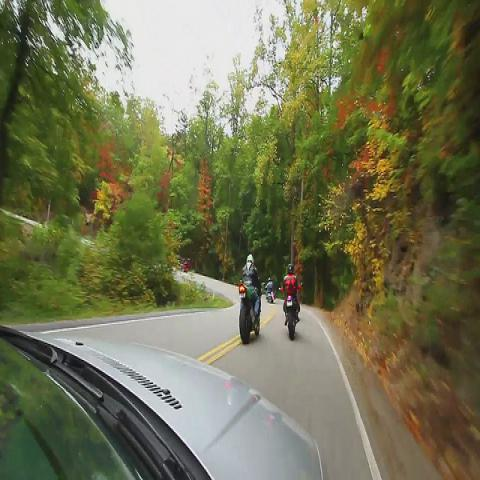car: (0, 328, 324, 475), (176, 255, 193, 273)
motorcycle: (240, 283, 260, 344), (287, 295, 298, 342), (267, 291, 273, 302)
